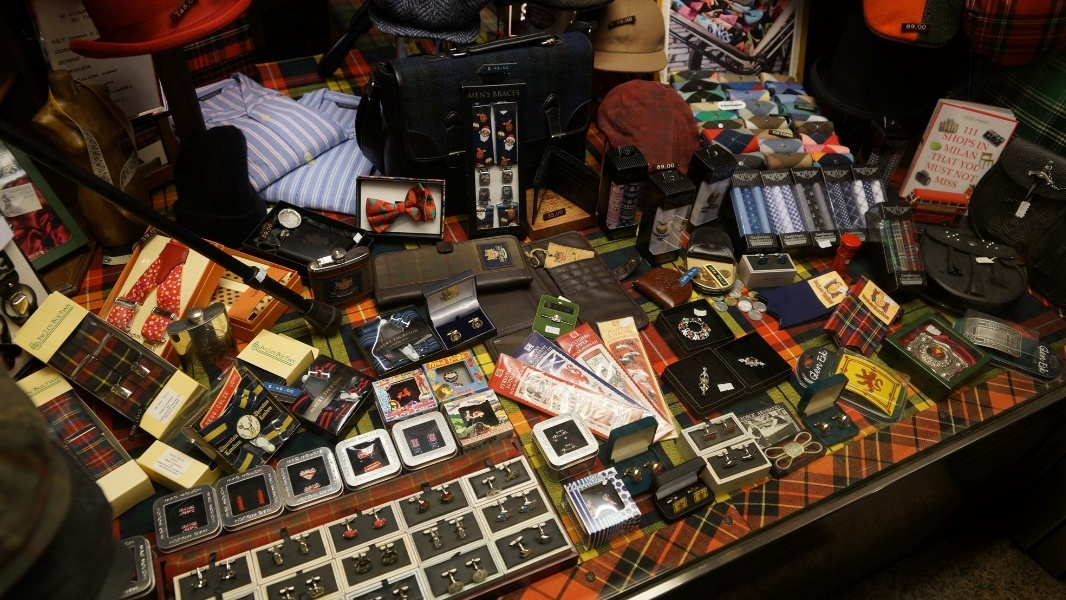text: (209, 391, 224, 426), (513, 365, 528, 395), (210, 492, 224, 524), (161, 394, 176, 423), (865, 294, 880, 321), (130, 409, 144, 437), (817, 279, 832, 305), (578, 416, 592, 443), (499, 362, 512, 390), (387, 436, 400, 463), (531, 345, 544, 369), (225, 434, 240, 454), (322, 375, 336, 396), (51, 303, 64, 325), (530, 344, 544, 364), (881, 294, 891, 321), (961, 132, 977, 148), (177, 528, 192, 545), (193, 528, 208, 545), (225, 440, 240, 457), (481, 426, 496, 443), (497, 426, 512, 443), (545, 430, 554, 458), (161, 396, 174, 415), (401, 430, 410, 457), (33, 377, 48, 393), (241, 507, 256, 523), (305, 487, 320, 503), (577, 478, 593, 493), (577, 342, 593, 357), (961, 145, 976, 161), (945, 152, 961, 167), (258, 405, 272, 422), (257, 400, 270, 418), (177, 488, 192, 503), (289, 449, 304, 464), (305, 449, 320, 464), (369, 467, 384, 482), (417, 447, 432, 462), (561, 447, 576, 462), (929, 162, 944, 177), (177, 2, 191, 18), (257, 507, 271, 523), (417, 413, 433, 427), (946, 132, 960, 148), (467, 426, 480, 443), (165, 400, 176, 420), (344, 451, 352, 478), (161, 461, 176, 475), (241, 468, 256, 482), (353, 432, 368, 446), (401, 413, 416, 427), (433, 447, 447, 462), (577, 447, 591, 462), (577, 334, 591, 349), (947, 145, 960, 161), (945, 176, 959, 190), (401, 329, 416, 342), (529, 345, 544, 358), (545, 414, 560, 427), (961, 171, 976, 184), (321, 487, 333, 503), (500, 246, 512, 262), (545, 345, 553, 369), (310, 395, 320, 414), (227, 468, 240, 482), (595, 469, 608, 483), (963, 160, 976, 174), (113, 84, 128, 96), (145, 228, 157, 243), (161, 391, 170, 411), (820, 349, 832, 364), (49, 377, 60, 393), (129, 160, 137, 182), (385, 387, 392, 412), (225, 391, 230, 426), (1041, 345, 1050, 364), (139, 546, 144, 580), (262, 223, 272, 240), (36, 328, 48, 342), (817, 361, 825, 382), (17, 185, 32, 196), (161, 465, 176, 476), (357, 467, 368, 482), (229, 374, 240, 389), (337, 286, 352, 297), (449, 353, 464, 364), (609, 333, 624, 344), (933, 152, 944, 167), (225, 487, 230, 518), (121, 160, 128, 182), (433, 359, 447, 370), (65, 56, 80, 66), (166, 488, 176, 503), (193, 488, 203, 503), (273, 473, 278, 503), (566, 478, 576, 493), (609, 325, 624, 335), (945, 162, 955, 177), (209, 90, 221, 102), (442, 420, 448, 444), (506, 366, 512, 390), (513, 366, 519, 390), (769, 405, 781, 417), (561, 414, 572, 427), (273, 385, 288, 394), (65, 303, 71, 325), (980, 141, 992, 152), (83, 73, 96, 83), (577, 339, 590, 349), (161, 508, 165, 540), (130, 332, 144, 341), (369, 432, 378, 446), (337, 375, 343, 396), (69, 64, 80, 75), (81, 64, 92, 75), (625, 333, 636, 344), (497, 90, 512, 98), (154, 391, 160, 411), (284, 467, 288, 497), (218, 434, 224, 454), (548, 210, 560, 220), (758, 405, 768, 417), (1041, 362, 1049, 377), (177, 394, 181, 423), (50, 323, 64, 331), (297, 487, 304, 503), (609, 469, 617, 483), (568, 249, 576, 263), (658, 163, 672, 171), (657, 231, 671, 239), (279, 352, 288, 364), (289, 352, 298, 364), (740, 413, 752, 422), (977, 116, 989, 125), (385, 467, 392, 482), (205, 391, 208, 426), (569, 334, 576, 349), (115, 96, 128, 104), (170, 528, 176, 545), (166, 459, 176, 469), (69, 9, 80, 18), (53, 37, 64, 46), (389, 340, 400, 349), (561, 304, 572, 313), (613, 329, 624, 338), (177, 461, 184, 475), (345, 432, 352, 446), (200, 90, 208, 102), (449, 420, 453, 444), (376, 340, 384, 352), (385, 340, 393, 352), (393, 329, 400, 342), (54, 47, 64, 56), (785, 234, 800, 240), (785, 237, 800, 243), (817, 232, 832, 238), (966, 127, 976, 136), (69, 34, 80, 42), (21, 189, 32, 197), (264, 345, 272, 356), (98, 168, 112, 174), (257, 468, 263, 482), (513, 362, 516, 390), (541, 430, 544, 458), (705, 205, 719, 211), (913, 24, 927, 30), (977, 160, 983, 174), (938, 176, 944, 190), (625, 329, 634, 338), (711, 266, 720, 275), (967, 116, 976, 125), (470, 91, 480, 99), (481, 91, 491, 99), (102, 69, 112, 77), (177, 453, 185, 463), (235, 507, 240, 523), (9, 185, 16, 196), (721, 275, 728, 286), (773, 131, 784, 138), (571, 342, 576, 357), (753, 238, 768, 243), (100, 174, 112, 180), (252, 400, 256, 418), (625, 17, 633, 26), (689, 268, 698, 276), (402, 337, 416, 342), (145, 546, 147, 580), (353, 286, 359, 297), (497, 66, 510, 71), (83, 15, 96, 20), (513, 90, 521, 98), (113, 258, 129, 262), (23, 193, 32, 200), (617, 17, 624, 26), (785, 131, 794, 138), (58, 56, 64, 66), (177, 400, 180, 420), (177, 459, 183, 469), (289, 467, 291, 497), (250, 289, 256, 299), (510, 365, 512, 395), (545, 344, 548, 364), (625, 325, 631, 335), (721, 104, 736, 108), (753, 236, 768, 240), (817, 236, 832, 240), (849, 232, 864, 236), (321, 395, 324, 414), (81, 34, 88, 42), (456, 389, 464, 396), (681, 275, 688, 283), (801, 106, 815, 110), (273, 345, 278, 356), (331, 286, 336, 297), (81, 9, 87, 18), (71, 17, 80, 23), (289, 385, 295, 394), (593, 416, 595, 443), (593, 381, 599, 390), (833, 279, 835, 305), (171, 453, 176, 463), (465, 389, 472, 396), (129, 84, 133, 96), (88, 138, 96, 144), (977, 145, 980, 161), (141, 228, 144, 243), (555, 304, 560, 313), (901, 273, 912, 277), (901, 277, 912, 281), (913, 277, 924, 281), (90, 144, 96, 151), (801, 237, 808, 243), (113, 69, 118, 77), (166, 405, 176, 409), (158, 396, 160, 415), (65, 47, 69, 56), (109, 84, 112, 96), (753, 413, 757, 422), (489, 66, 496, 71), (241, 440, 243, 457), (913, 273, 921, 277), (129, 541, 134, 547), (271, 473, 272, 503), (257, 289, 260, 299), (593, 340, 599, 345), (561, 210, 564, 220), (159, 394, 160, 423), (49, 328, 51, 342), (158, 461, 160, 475), (417, 329, 419, 342), (958, 171, 960, 184), (977, 171, 979, 184), (493, 90, 496, 98), (60, 13, 64, 19), (90, 32, 96, 36), (97, 162, 101, 168), (92, 150, 96, 156), (124, 541, 128, 547), (653, 231, 656, 239), (737, 104, 743, 108), (769, 278, 781, 280), (908, 24, 912, 30), (430, 359, 432, 370), (33, 193, 36, 200), (97, 73, 99, 83), (108, 80, 112, 85), (172, 458, 176, 463), (769, 238, 773, 243), (1039, 345, 1040, 364), (270, 385, 272, 394), (590, 381, 592, 390), (801, 234, 804, 240), (833, 232, 836, 238), (977, 127, 979, 136), (273, 405, 274, 422), (175, 2, 176, 18), (673, 163, 675, 171), (609, 335, 613, 339), (833, 236, 837, 240), (287, 449, 288, 464), (321, 449, 322, 464), (415, 447, 416, 462), (1039, 362, 1040, 377), (543, 414, 544, 427), (94, 156, 96, 162), (97, 156, 99, 162), (177, 465, 178, 476), (447, 353, 448, 364), (465, 353, 466, 364), (177, 458, 179, 463), (171, 465, 176, 467), (65, 37, 66, 46), (401, 340, 402, 349), (33, 189, 34, 197), (689, 275, 690, 283), (769, 236, 771, 240), (846, 232, 848, 236), (65, 13, 66, 19), (97, 150, 98, 156), (703, 205, 704, 211), (765, 278, 768, 280), (113, 80, 114, 85), (751, 238, 752, 243), (799, 106, 800, 110)
